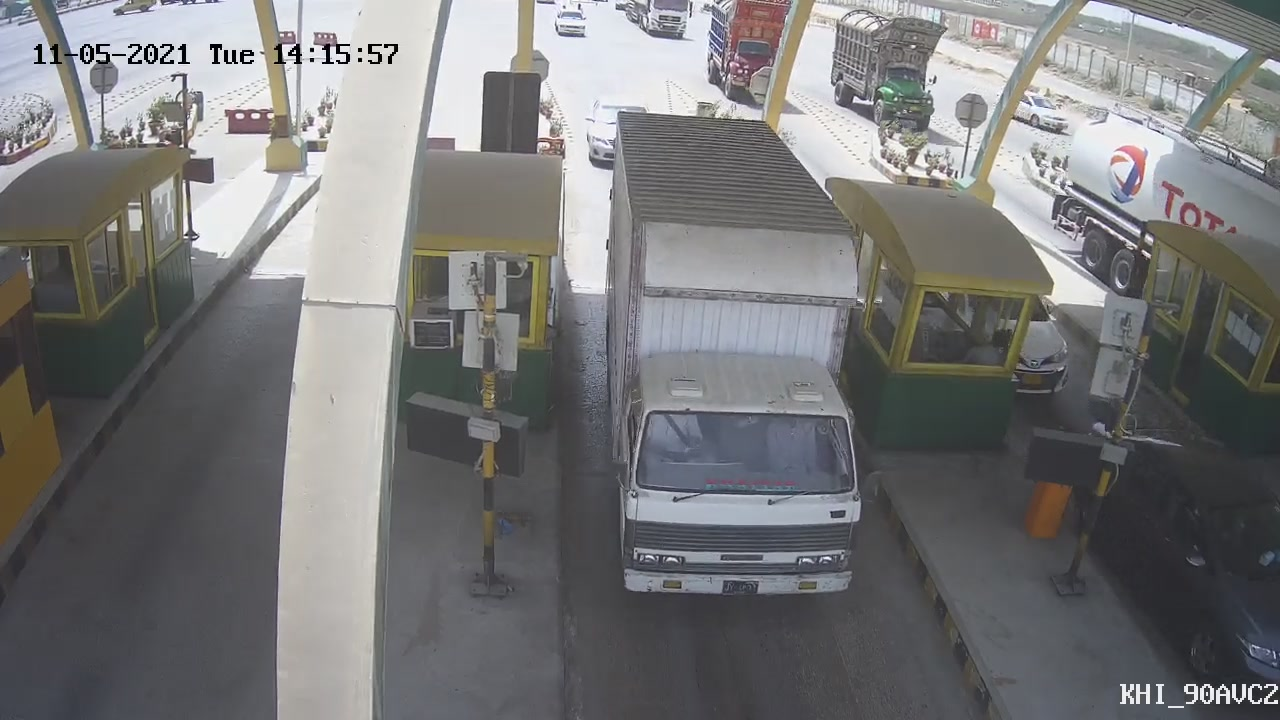F5: (603, 111, 880, 618)
